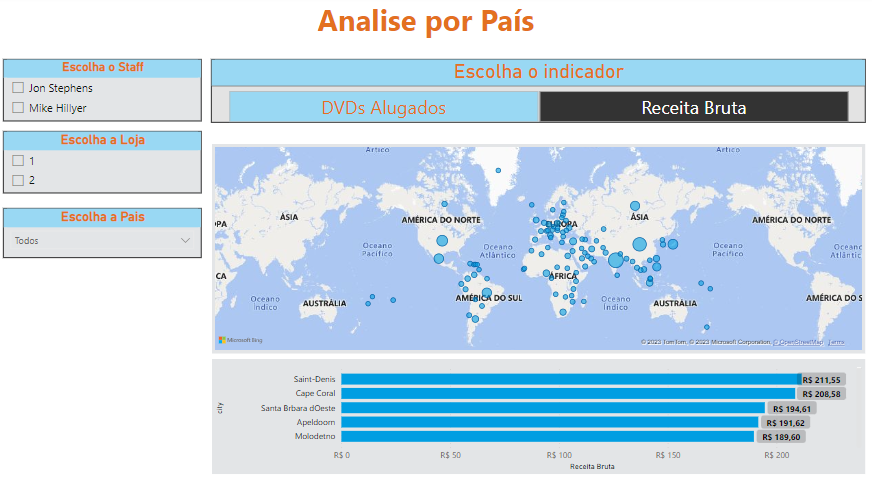

This screenshot's page, from the dashboard's own definition file:
{"tool":"powerbi","page":{"name":"País","canvas":[1280,720],"ordinal":2},"visuals":[{"type":"clusteredBarChart","fields":{"Y":["public rental_serving.receita"],"Category":["public customer_serving.country","public customer_serving.city"]},"box":[314.7,530.3,954.3,168.1],"z":0},{"type":"map","fields":{"Size":["public rental_serving.receita"],"Category":["public customer_serving.country","public customer_serving.city"]},"box":[314.7,215.6,954.3,306.1],"z":1000},{"type":"slicer","title":"Escolha a Loja","fields":{"Values":["public staff_serving.store_id"]},"box":[10.1,196.9,290.3,90.5],"z":2000},{"type":"slicer","title":"Escolha o Staff","fields":{"Values":["public staff_serving.staff_name"]},"box":[10.1,92,290.3,90.5],"z":3000},{"type":"slicer","title":"Escolha a Pais","fields":{"Values":["public customer_serving.country"]},"box":[10.1,309,290.3,73.3],"z":4000},{"type":"image","box":[15.8,487.2,268.7,211.3],"z":5000},{"type":"slicer","title":"Escolha o indicador","fields":{"Values":["kpi.kpi"]},"box":[313.3,92,955.7,93.4],"z":6000},{"type":"textbox","box":[464.3,0,351.4,71.4],"z":7000}]}

Visuals, with their boxes in screenshot pixels (x1, y1, x2, y2), scaled from the page's 1280x720 canvas onto the 872x486 screenshot:
clusteredBarChart - public rental_serving.receita x public customer_serving.country: rect(214, 358, 865, 471)
map - public rental_serving.receita x public customer_serving.country: rect(214, 146, 865, 352)
"Escolha a Loja" slicer: rect(7, 133, 205, 194)
"Escolha o Staff" slicer: rect(7, 62, 205, 123)
"Escolha a Pais" slicer: rect(7, 209, 205, 258)
image: rect(11, 329, 194, 471)
"Escolha o indicador" slicer: rect(213, 62, 865, 125)
textbox: rect(316, 0, 556, 48)
